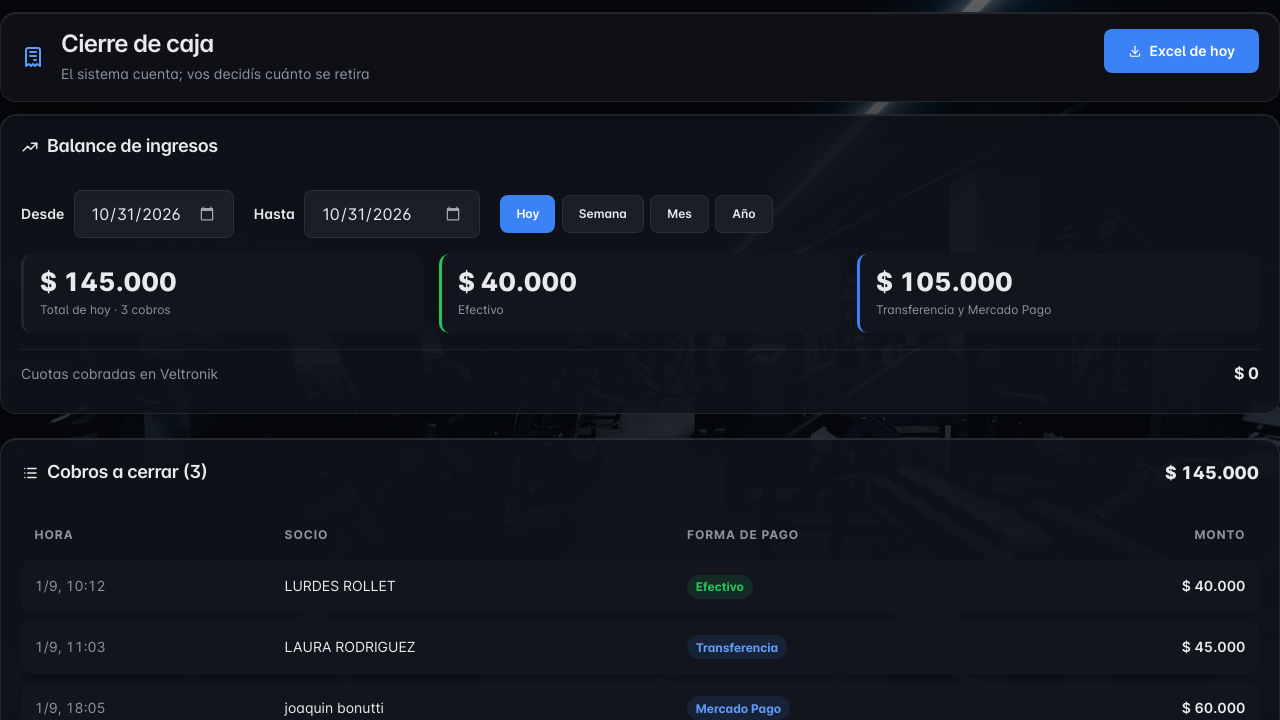
it: el balance de ingresos › se puede pasar al mes
Click the button "Mes".
click(680, 214)  # box [650,195,709,233]
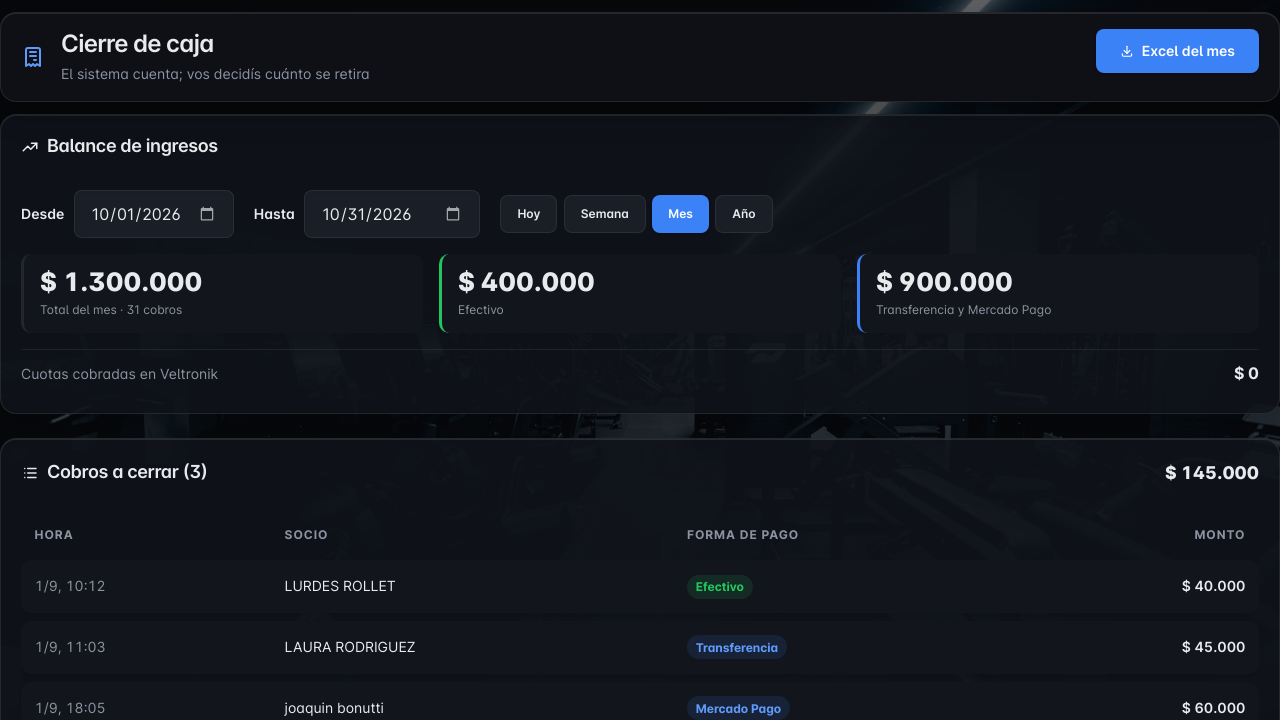
Result: the text "Total del mes" is shown at [40,302,117,317]
Result: the element with class "es-total" shows "31 cobros" at [127,302,182,317]
